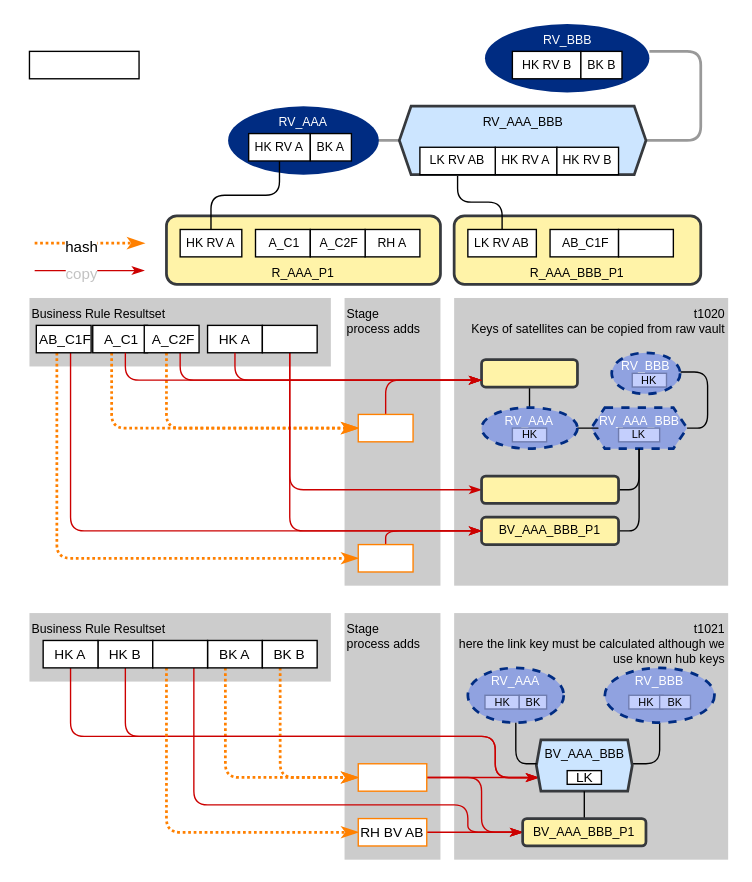
Image size: 752x882. Some labels were removed from this diagram. The centre of each missing label's shape, as x and y in pixels:
"AB_CF1" belongs at (x=179, y=653).
"BV_AAA_BBB_ESAT" belongs at (x=549, y=489).
"BV_AAA_P1" belongs at (x=529, y=373).
"LK AB" belongs at (x=289, y=338).
"LK BV AB" belongs at (x=392, y=776).
"RH AB" belongs at (x=645, y=242).
"RH_A" belongs at (x=385, y=427).
"RH_AB" belongs at (x=385, y=557).
"wepe data vault notation" belongs at (x=83, y=64).
